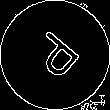P_SE: (24, 24, 86, 86)
